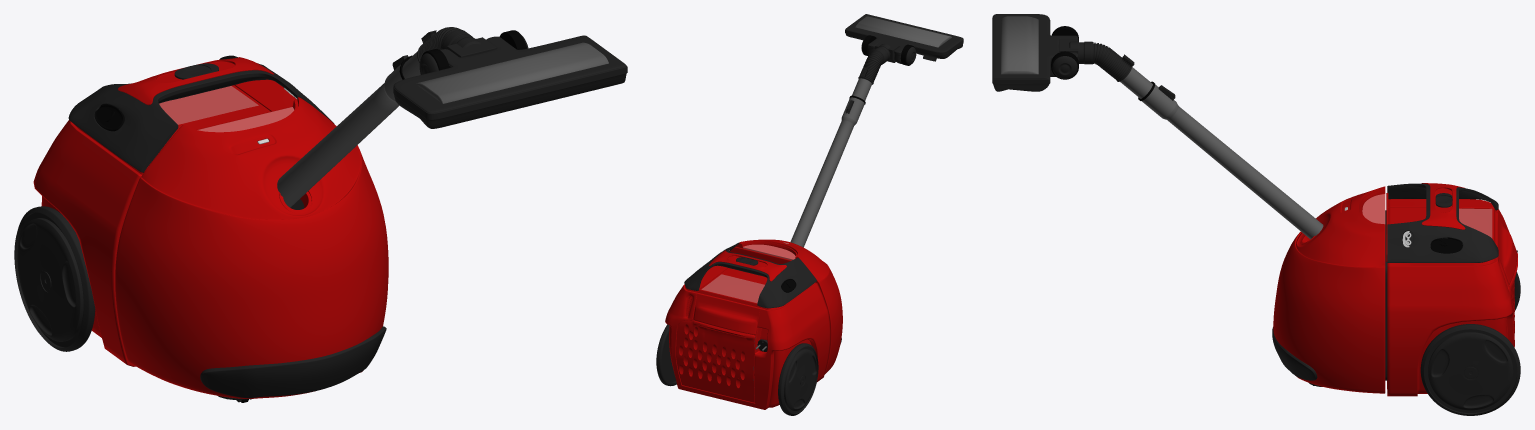
Rendered from vacuum3.fbx.
3 renders of one model, left to right at view 1: azimuth 30°, elevation 25°; view 2: azimuth 150°, elevation 25°; view 3: azimuth 270°, elevation 25°, orthographic. The views are drawn at different scales.
Visible parts, largest first — view 1: Default, Object002, Object004; view 2: Default, Object002, Object004; view 3: Default, Object002, Object004.
Part boxes in pixels (x1,y1,x2,y2): Default: (33,55,388,402); Object002: (277,27,627,207); Object004: (14,206,95,351); Default: (665,239,842,409); Object002: (790,14,963,247); Object004: (656,324,818,415); Default: (1272,183,1517,396); Object002: (992,14,1323,239); Object004: (1420,272,1520,415).
Size of the model in its own units: 21.39 by 38.71 by 55.48.
